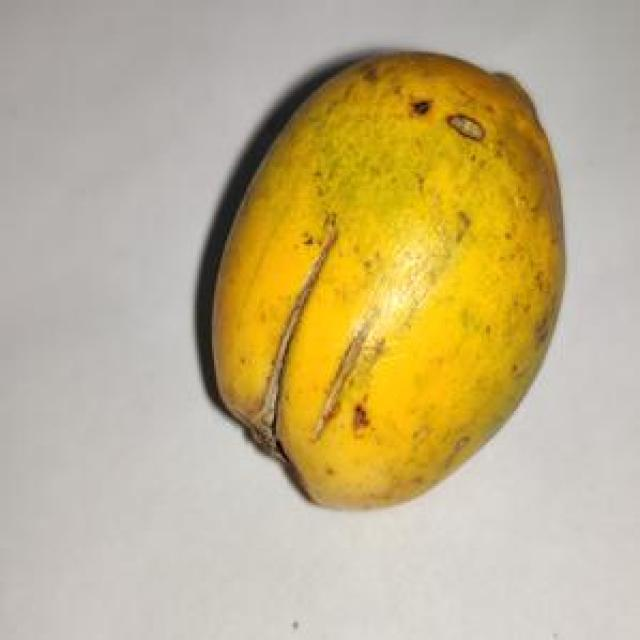damaged: (214, 51, 563, 505)
